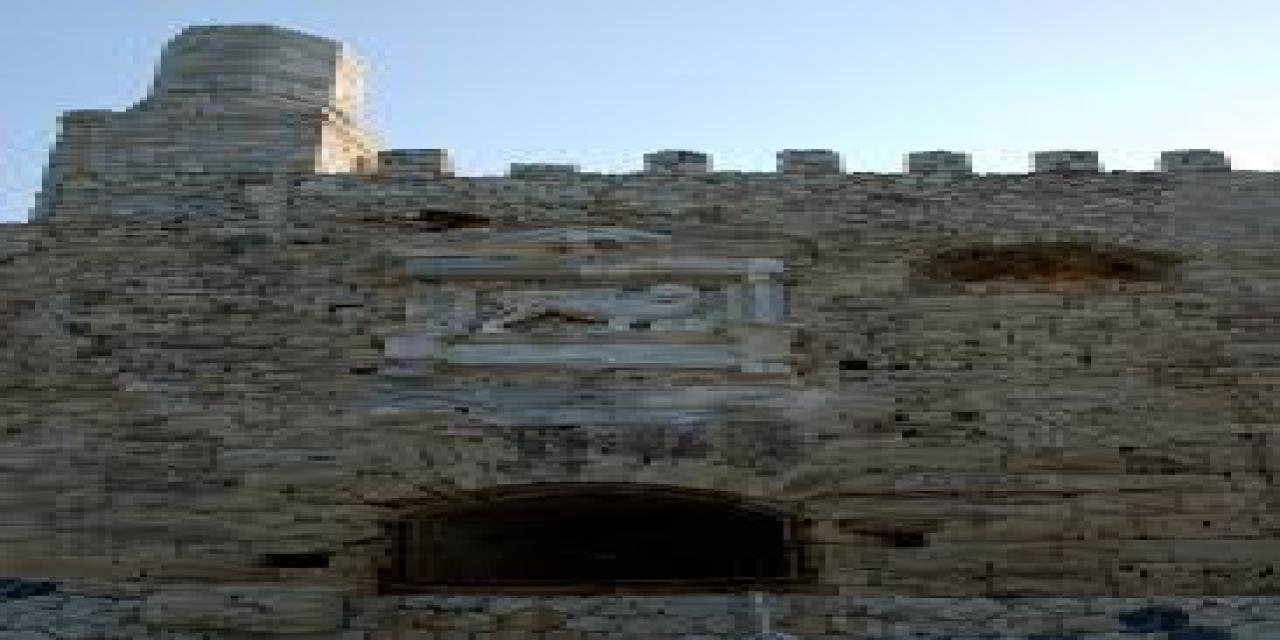Kules: (1, 28, 1280, 640)
